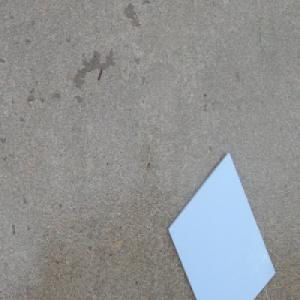PaintChip: (167, 152, 276, 300)
